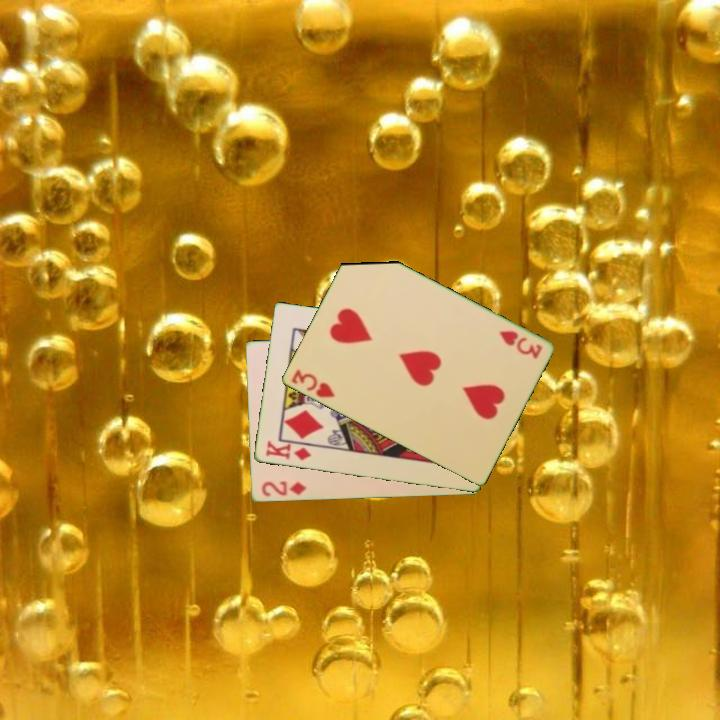2d: (258, 478, 309, 499)
3h: (287, 366, 338, 401), (495, 327, 545, 362)
Kd: (262, 437, 314, 464)
